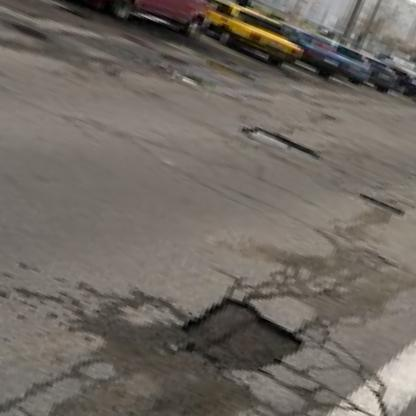pothole: (170, 283, 306, 393), (237, 120, 320, 164), (358, 191, 409, 220)
